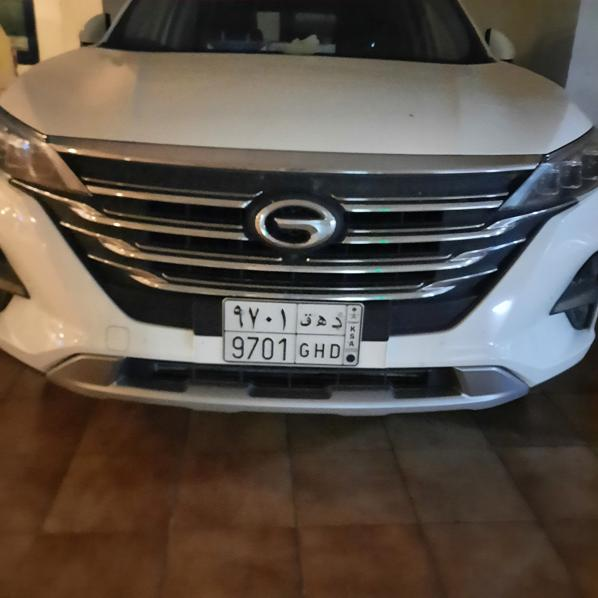numberplate: (222, 298, 360, 366)
